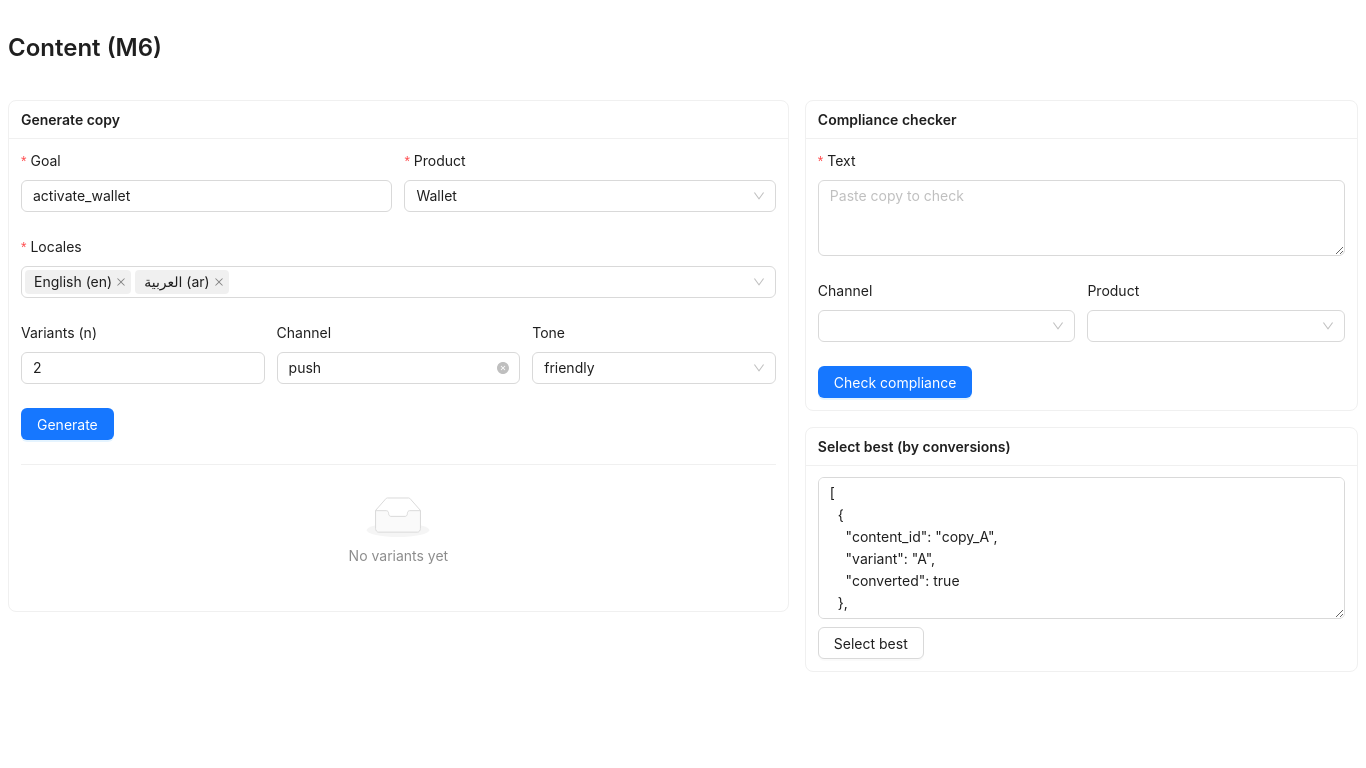
Scenario: ContentPage › shows violation tags when a generated variant is non-compliant
Click the button "Generate".
click(67, 424)  # box [21,408,114,440]
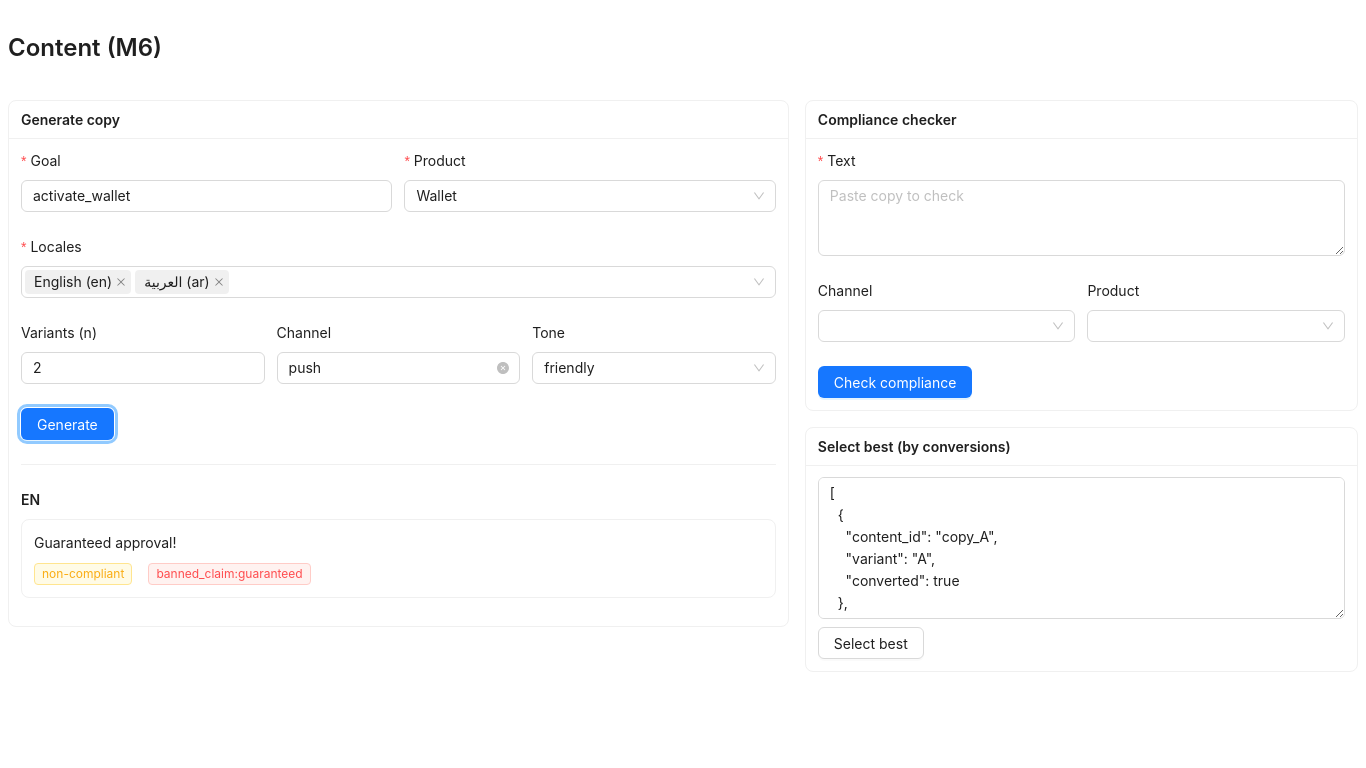
expect the text "banned_claim:guaranteed" is shown: met, box [148,563,311,585]
expect the text "non-compliant" is shown: met, box [34,563,132,585]
